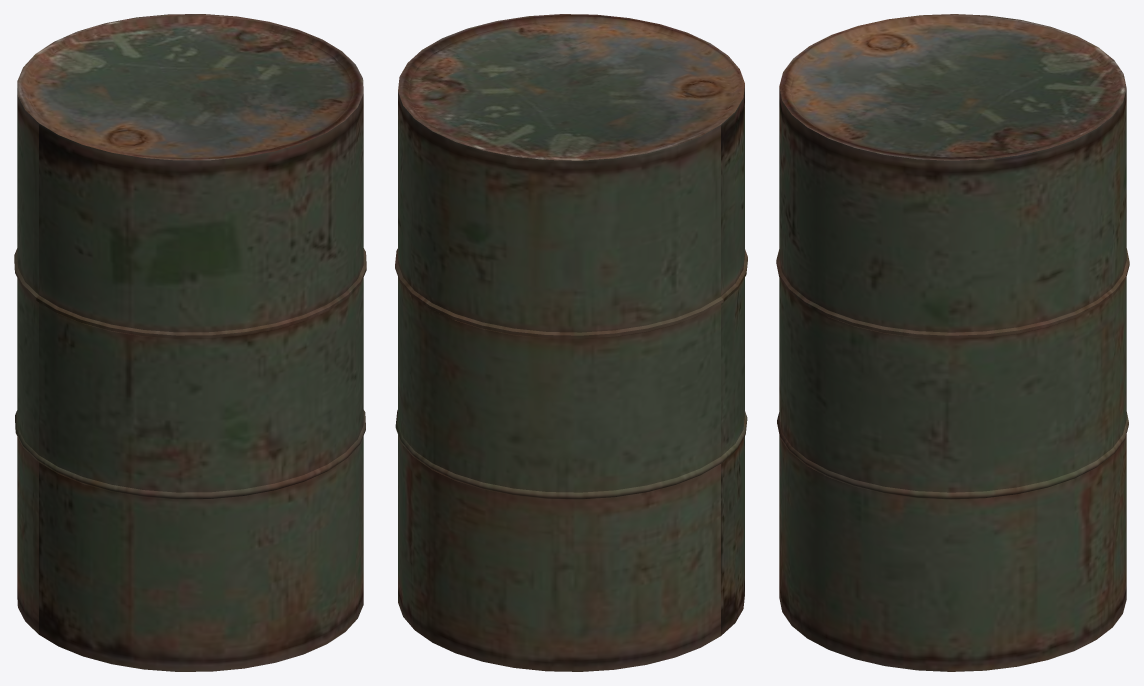
Rendered from barrel.glb.
The picture shows the model from 3 angles, left to right: view 1: azimuth 30°, elevation 25°; view 2: azimuth 150°, elevation 25°; view 3: azimuth 270°, elevation 25°; orthographic projection.
Parts seen in each view (by area): view 1: Barrel; view 2: Barrel; view 3: Barrel.
Part boxes in pixels (box(x1,y1,x2,y2)): Barrel: box(14, 14, 366, 671); Barrel: box(395, 14, 747, 671); Barrel: box(776, 14, 1129, 671).
Bounding box in the file's own units: 0.6652 × 1.06 × 0.6652.
Materials: 1 (1 with a texture image).
